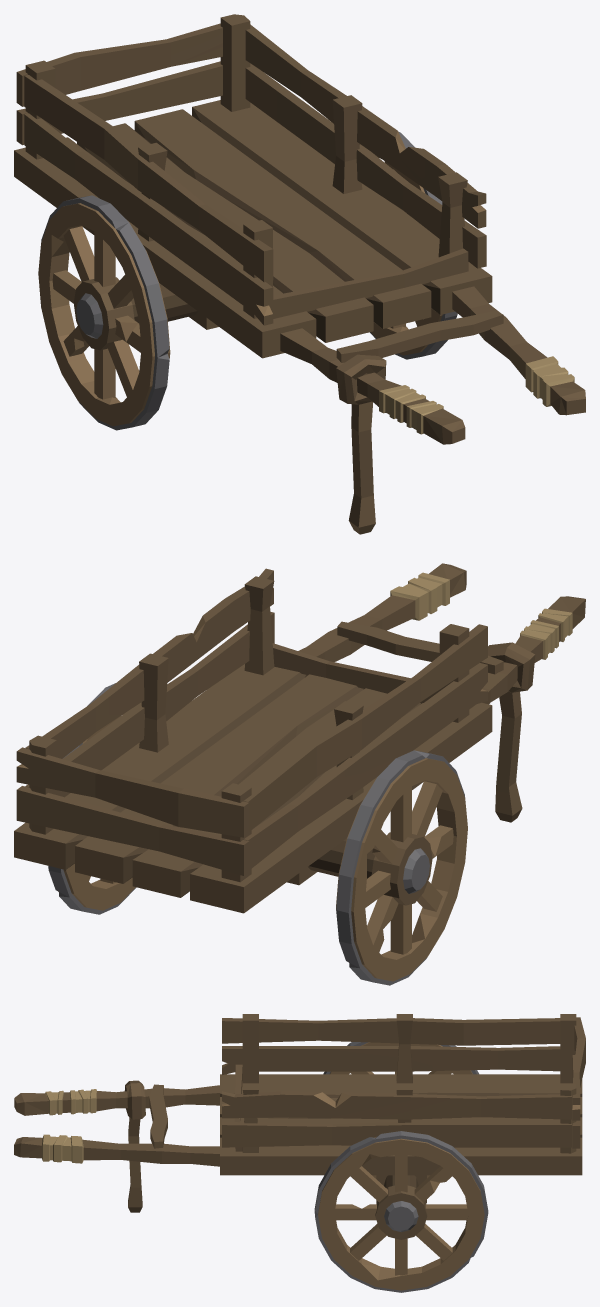
The model's file is SM_Prop_Cart_01.gltf.
The picture shows the model from 3 angles, top to bottom: view 1: azimuth 30°, elevation 25°; view 2: azimuth 150°, elevation 25°; view 3: azimuth 270°, elevation 25°; orthographic projection. The views are drawn at different scales.
Visible parts, largest first — view 1: SM_Prop_Cart_01; view 2: SM_Prop_Cart_01; view 3: SM_Prop_Cart_01.
Part boxes in pixels (left/top/right/bottom): SM_Prop_Cart_01: left=14, top=14, right=585, bottom=534; SM_Prop_Cart_01: left=14, top=563, right=585, bottom=985; SM_Prop_Cart_01: left=14, top=1014, right=585, bottom=1292.
Size of the model in its own units: 1.52 by 1.14 by 3.15.
1 material, 1 textured.
